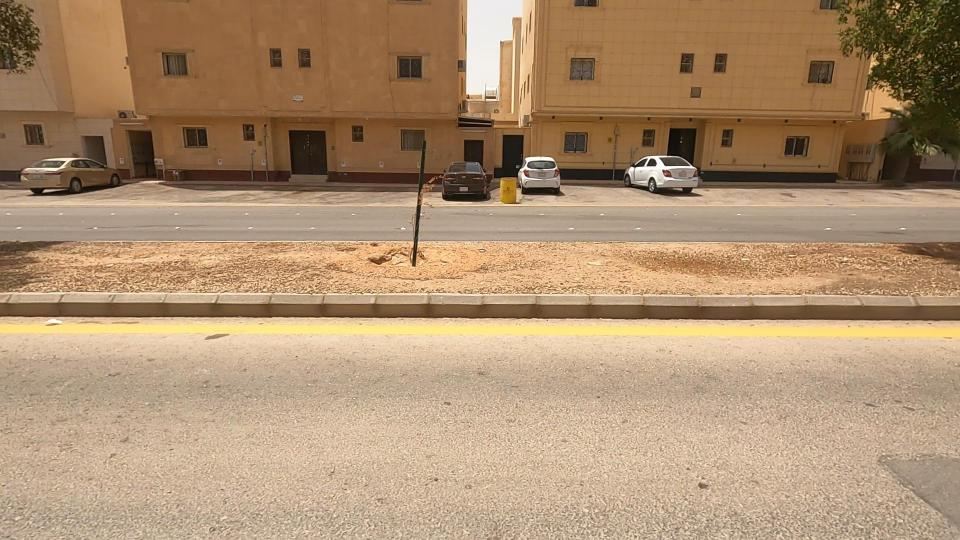CLUTTER_SIDEWALK: (0, 192, 628, 362), (402, 189, 960, 349)
